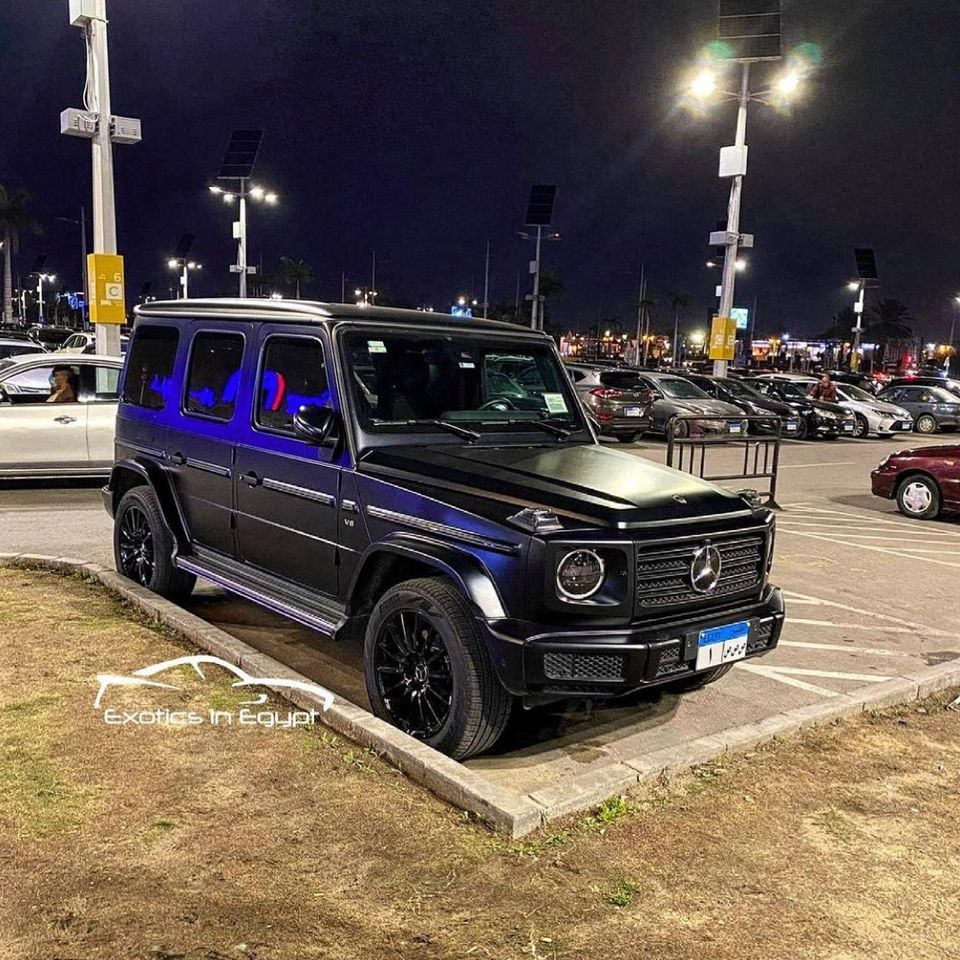carpl: (685, 625, 756, 668)
